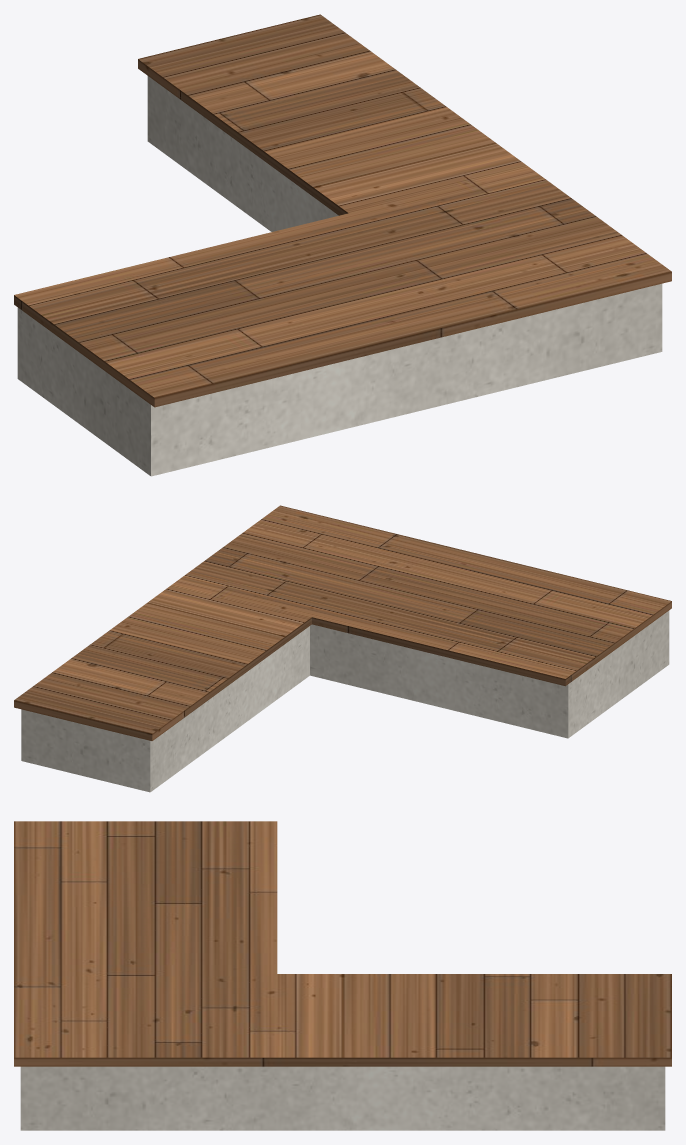
The model's file is floor_floor_u_e1000_h2.glb.
The picture shows the model from 3 angles, top to bottom: view 1: azimuth 30°, elevation 25°; view 2: azimuth 150°, elevation 25°; view 3: azimuth 270°, elevation 25°; orthographic projection. The views are drawn at different scales.
Visible parts, largest first — view 1: floor_floor_u_e1000_h2_floor, floor_floor_u_e1000_h2_plaster; view 2: floor_floor_u_e1000_h2_floor, floor_floor_u_e1000_h2_plaster; view 3: floor_floor_u_e1000_h2_floor, floor_floor_u_e1000_h2_plaster.
Part boxes in pixels (x1,y1,x2,y2): floor_floor_u_e1000_h2_floor: (14,14,671,407); floor_floor_u_e1000_h2_plaster: (17,76,662,476); floor_floor_u_e1000_h2_floor: (14,505,671,740); floor_floor_u_e1000_h2_plaster: (21,610,669,792); floor_floor_u_e1000_h2_floor: (14,821,671,1066); floor_floor_u_e1000_h2_plaster: (20,1066,665,1130).
Size of the model in its own units: 1.7 by 0.255 by 2.
2 materials, 2 textured.
